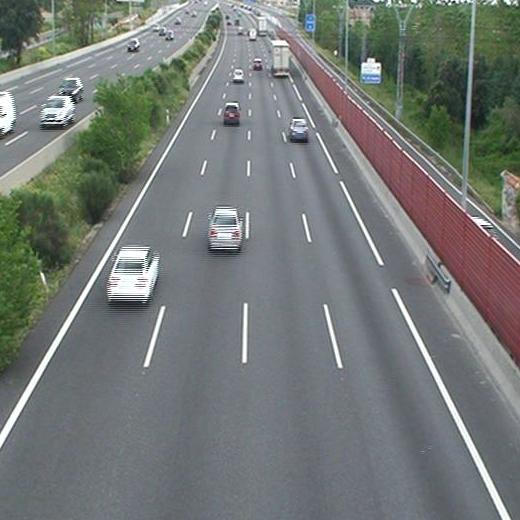car: (107, 248, 158, 299), (209, 209, 241, 248), (290, 119, 308, 139), (224, 103, 240, 123), (232, 69, 243, 82), (252, 59, 262, 69)
truck: (271, 40, 289, 76), (257, 16, 267, 36)
van: (248, 28, 256, 40)
